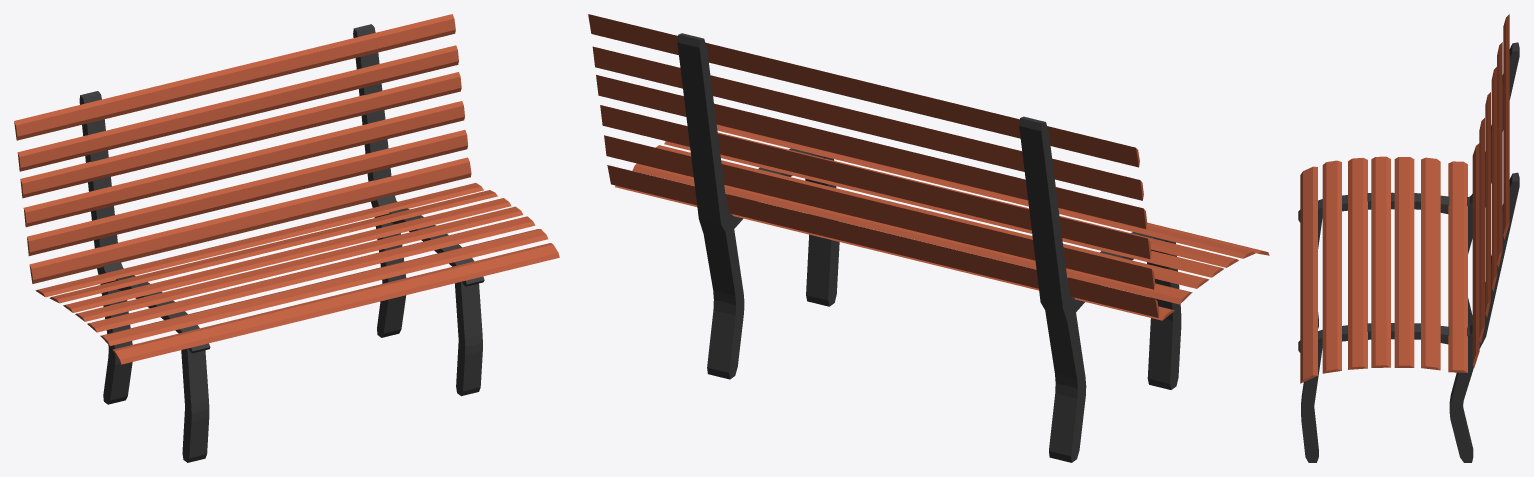
The picture shows the model from 3 angles, left to right: view 1: azimuth 30°, elevation 25°; view 2: azimuth 150°, elevation 25°; view 3: azimuth 270°, elevation 25°; orthographic projection. The views are drawn at different scales.
Visible parts, largest first — view 1: Cubo.002; view 2: Cubo.002; view 3: Cubo.002.
Part boxes in pixels (x1=…): Cubo.002: x1=14, y1=14, x2=559, y2=462; Cubo.002: x1=588, y1=14, x2=1269, y2=462; Cubo.002: x1=1298, y1=14, x2=1519, y2=462.
Size of the model in its own units: 636 by 285 by 401.
